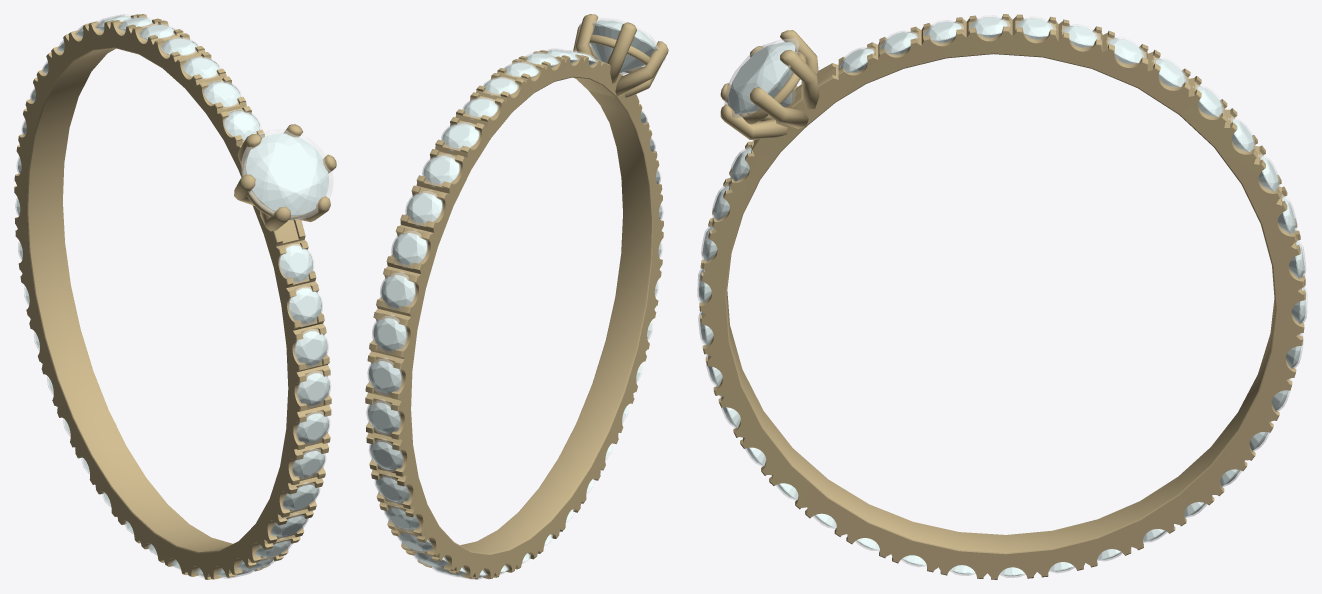
The model's file is MoissaniteRing.glb.
The picture shows the model from 3 angles, left to right: view 1: azimuth 30°, elevation 25°; view 2: azimuth 150°, elevation 25°; view 3: azimuth 270°, elevation 25°; orthographic projection. The views are drawn at different scales.
Visible parts, largest first — view 1: MoissaniteDiamondRing; view 2: MoissaniteDiamondRing; view 3: MoissaniteDiamondRing.
Part boxes in pixels (x1=…): MoissaniteDiamondRing: x1=14, y1=14, x2=336, y2=579; MoissaniteDiamondRing: x1=365, y1=14, x2=668, y2=579; MoissaniteDiamondRing: x1=697, y1=14, x2=1307, y2=579.
Bounding box in the file's own units: 3.34 × 17.47 × 17.46.
